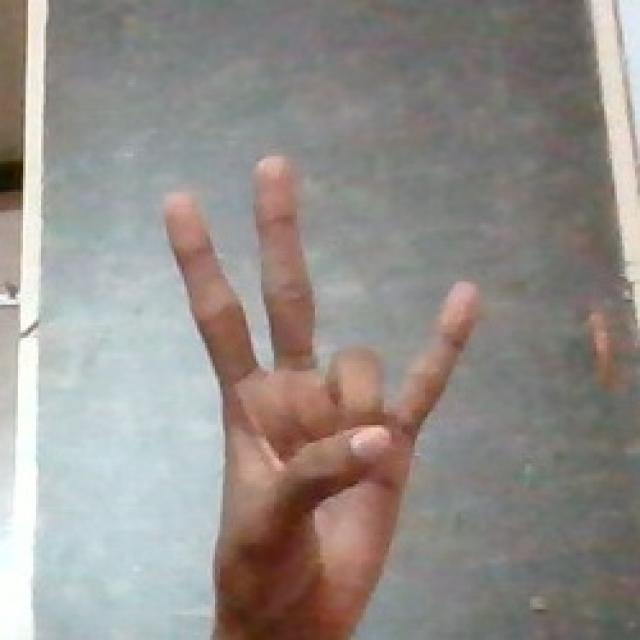Numeric-7: (157, 146, 483, 640)
